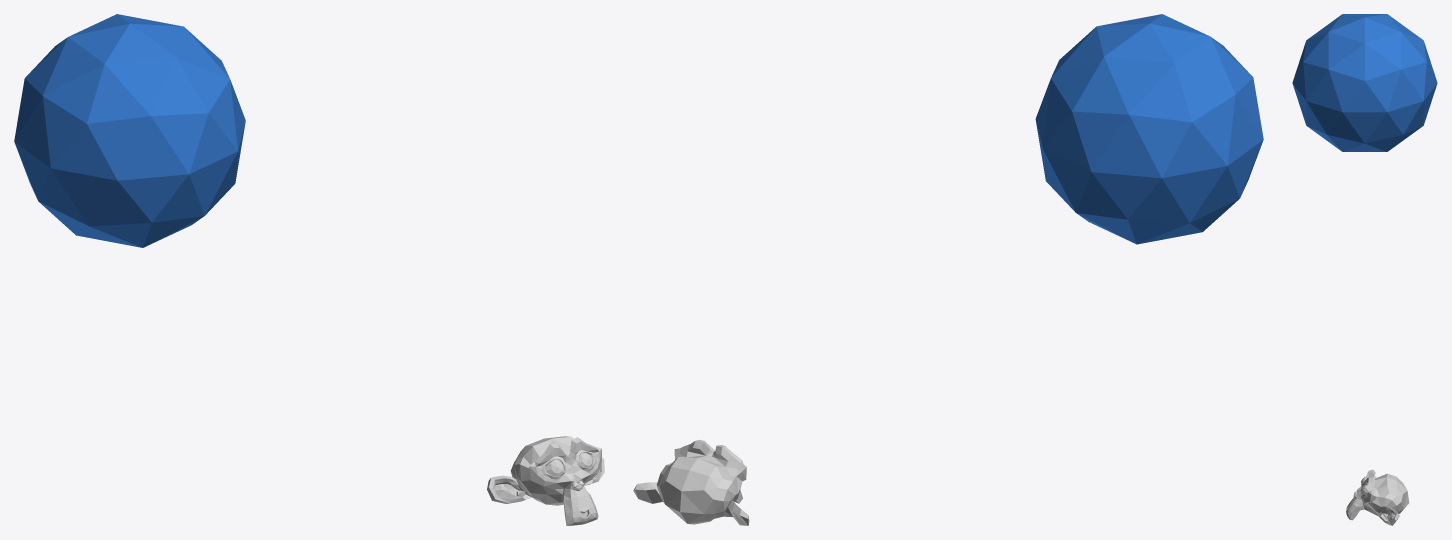
3 renders of one model, left to right at view 1: azimuth 30°, elevation 25°; view 2: azimuth 150°, elevation 25°; view 3: azimuth 270°, elevation 25°, orthographic. The views are drawn at different scales.
Parts seen in each view (by area): view 1: Icosphere, Suzanne; view 2: Icosphere, Suzanne; view 3: Icosphere, Suzanne.
Boxes of the visible parts, bbox=[...] form: Icosphere: bbox=[14, 14, 245, 247]; Suzanne: bbox=[487, 436, 604, 525]; Icosphere: bbox=[1035, 14, 1263, 244]; Suzanne: bbox=[633, 439, 749, 525]; Icosphere: bbox=[1292, 14, 1437, 151]; Suzanne: bbox=[1346, 469, 1409, 525].
Bounding box in the file's own units: 5.82 × 2 × 5.59.
